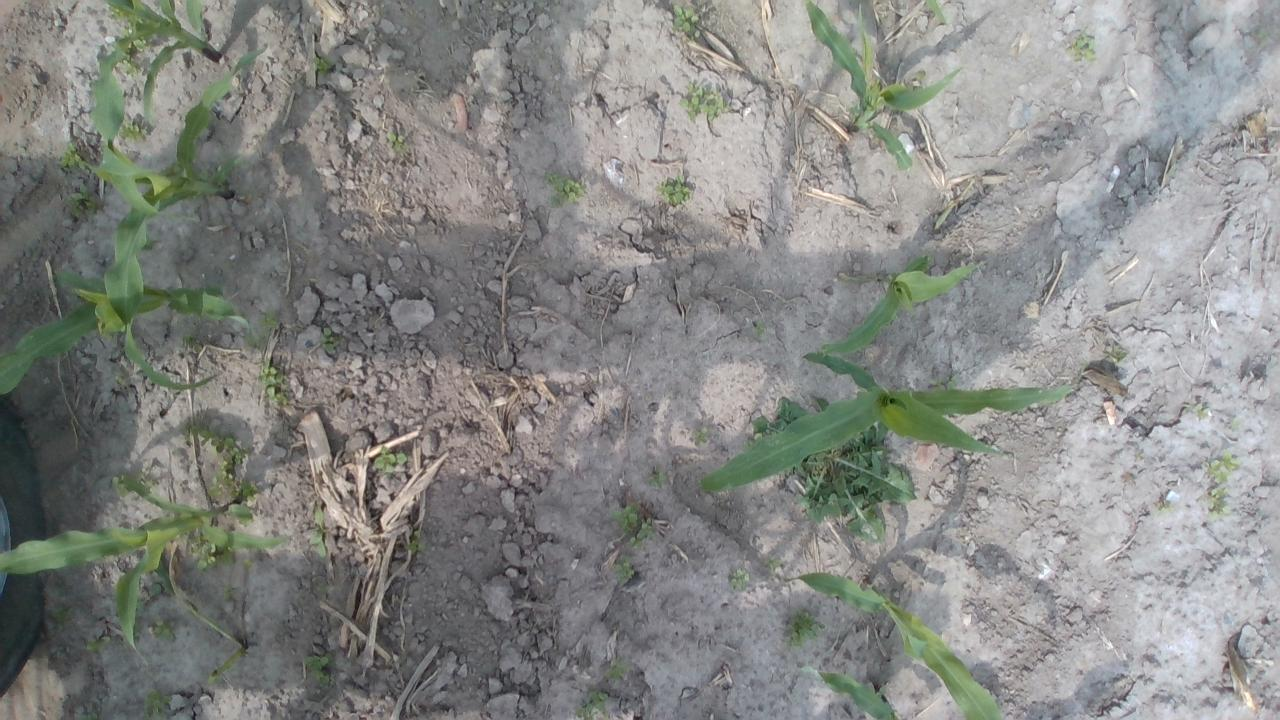Maize: (75, 42, 270, 393), (0, 478, 293, 669), (698, 351, 1080, 496), (0, 268, 254, 397), (786, 572, 1004, 720), (88, 0, 227, 218), (804, 0, 964, 173), (818, 255, 986, 353), (799, 666, 897, 720), (920, 0, 952, 29)
Weeds: (750, 395, 920, 546), (182, 426, 258, 503), (1202, 449, 1244, 518), (110, 6, 147, 74), (679, 78, 730, 124), (608, 504, 658, 549), (782, 610, 826, 648), (544, 174, 587, 206), (66, 184, 104, 220), (308, 505, 332, 560), (258, 362, 288, 405), (194, 544, 238, 570), (303, 653, 336, 686), (659, 174, 694, 205), (671, 4, 701, 38), (576, 690, 608, 720), (374, 446, 408, 474), (1068, 34, 1098, 63), (143, 694, 175, 720), (135, 585, 164, 613), (60, 142, 87, 169), (403, 531, 428, 557), (603, 658, 630, 682), (114, 478, 150, 496), (614, 554, 638, 580), (84, 632, 112, 654), (152, 620, 177, 644), (319, 326, 340, 354), (120, 122, 148, 142), (1104, 344, 1130, 364), (386, 132, 407, 154), (1186, 402, 1212, 419), (314, 56, 334, 78), (730, 568, 750, 590), (1254, 28, 1275, 47), (260, 310, 279, 330), (182, 333, 200, 354), (1154, 499, 1176, 516), (647, 470, 666, 488), (692, 426, 709, 446), (247, 334, 264, 349), (114, 376, 134, 388), (754, 322, 766, 338)
